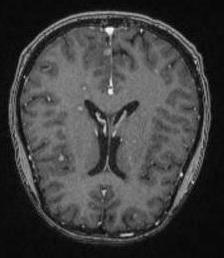Normal_Brain: (1, 1, 224, 258)
